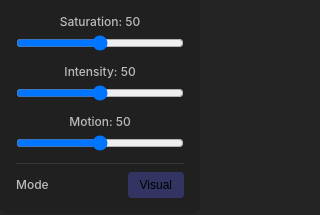
Scenario: Controls Component › Test 8.4: Text/Visual mode toggle switches between modes › clicking toggle switches from visual to text mode
Click the button with test id "mode-toggle" at (156, 184), box [128,172,184,198]
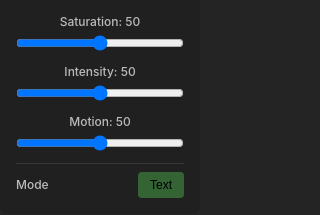
Expected: the button with test id "mode-toggle" reads "text", [138,172,184,198]
